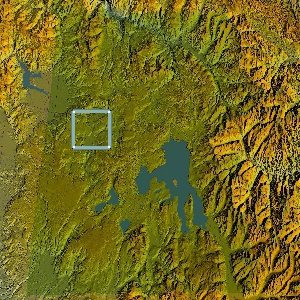square: (70, 107, 111, 150)
